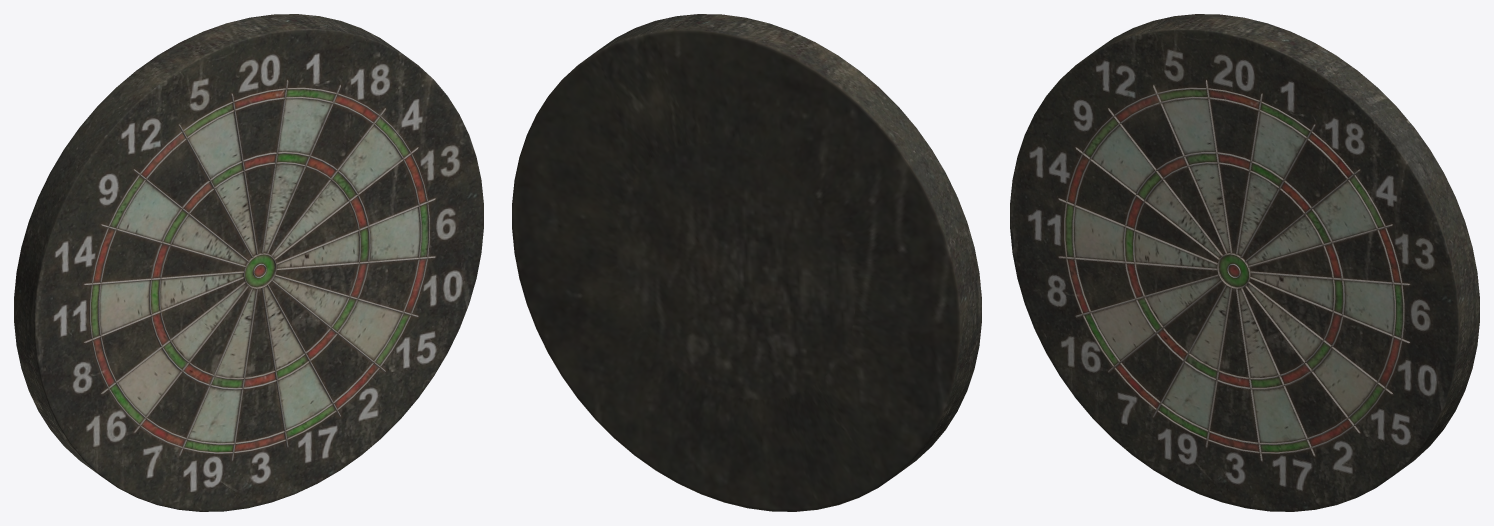
File: dartboard.glb
3 renders of one model, left to right at view 1: azimuth 30°, elevation 25°; view 2: azimuth 150°, elevation 25°; view 3: azimuth 330°, elevation 25°, orthographic.
Visible parts, largest first — view 1: dartboard; view 2: dartboard; view 3: dartboard.
Boxes of the visible parts, x1=… form: dartboard: x1=14, y1=14, x2=483, y2=511; dartboard: x1=512, y1=14, x2=981, y2=511; dartboard: x1=1010, y1=14, x2=1479, y2=511.
Size of the model in its own units: 0.4507 by 0.4507 by 0.0398.
1 material, 1 textured.
